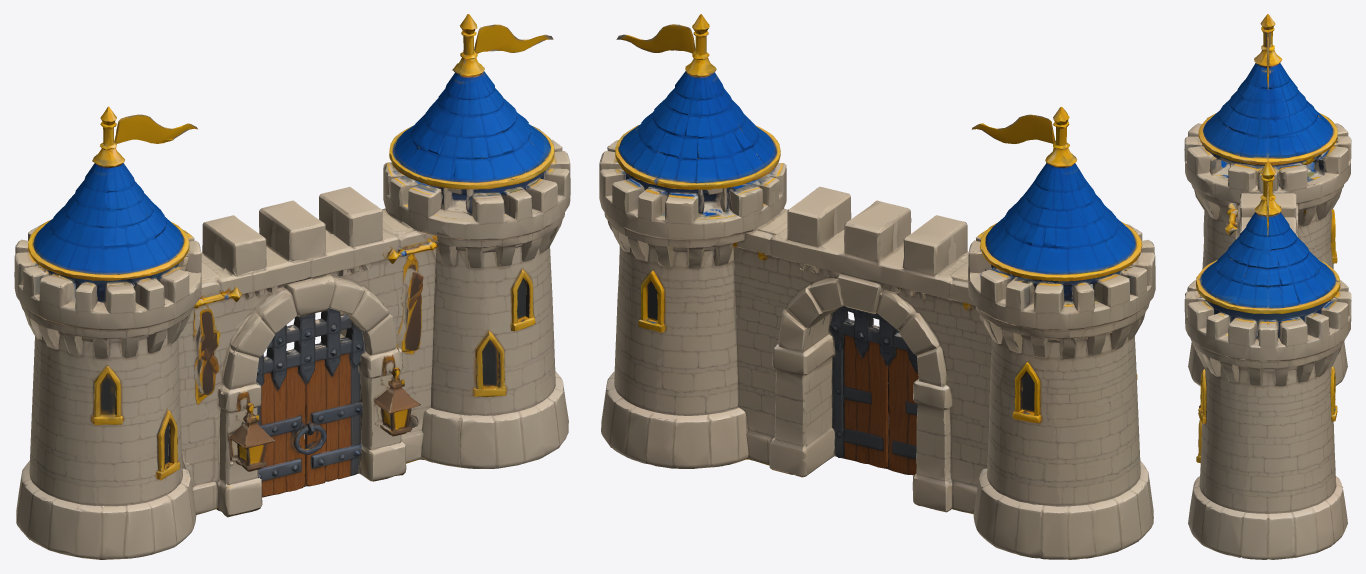
Rendered from castle.glb.
3 renders of one model, left to right at view 1: azimuth 30°, elevation 25°; view 2: azimuth 150°, elevation 25°; view 3: azimuth 270°, elevation 25°, orthographic. The views are drawn at different scales.
Parts seen in each view (by area): view 1: Body; view 2: Body; view 3: Body.
Boxes of the visible parts, x1,y1,x2,y2 form: Body: [14, 14, 570, 559]; Body: [599, 14, 1155, 559]; Body: [1184, 14, 1351, 559].
Size of the model in its own units: 10.5 by 7.98 by 3.31.
1 material, 1 textured.
